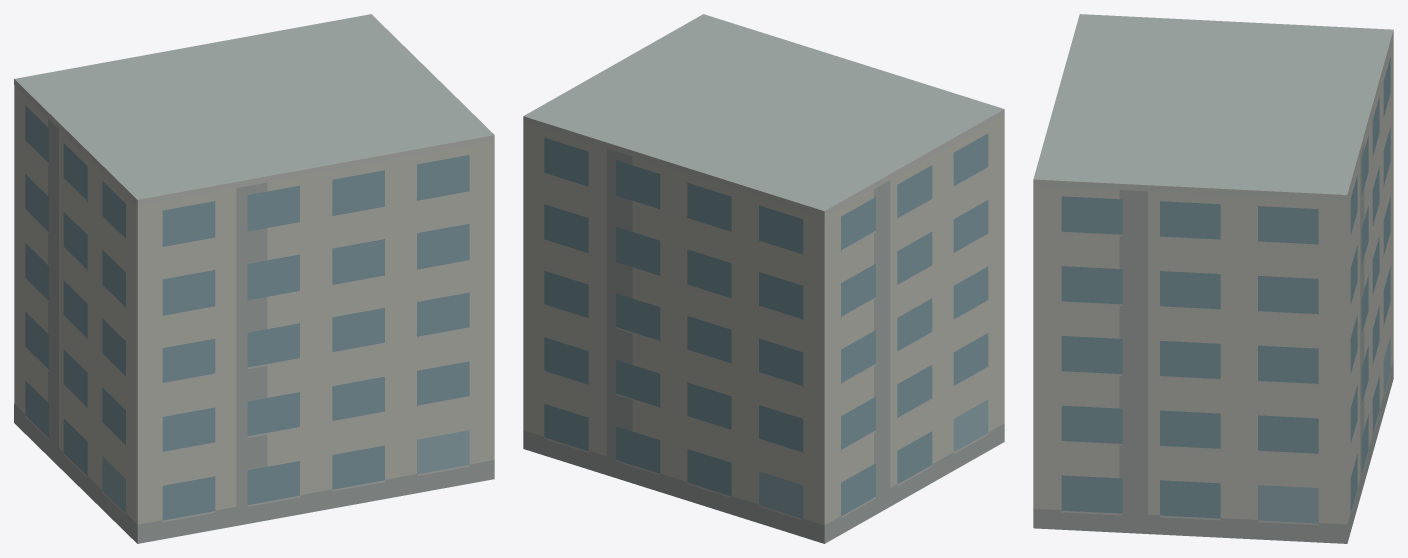
Rendered from survey-upis-32818308.glb.
The picture shows the model from 3 angles, left to right: view 1: azimuth 30°, elevation 25°; view 2: azimuth 150°, elevation 25°; view 3: azimuth 270°, elevation 25°; orthographic projection. The views are drawn at different scales.
Visible parts, largest first — view 1: survey-upis-32818308.tmp; view 2: survey-upis-32818308.tmp; view 3: survey-upis-32818308.tmp.
Part boxes in pixels (x1,y1,x2,y2): survey-upis-32818308.tmp: (14,14,494,543); survey-upis-32818308.tmp: (523,14,1004,543); survey-upis-32818308.tmp: (1033,14,1393,543).
Bounding box in the file's own units: 15.11 × 13.57 × 12.71.
